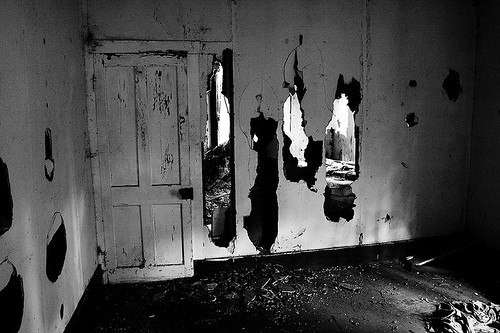door: (93, 46, 198, 284)
wall: (203, 1, 500, 258)
